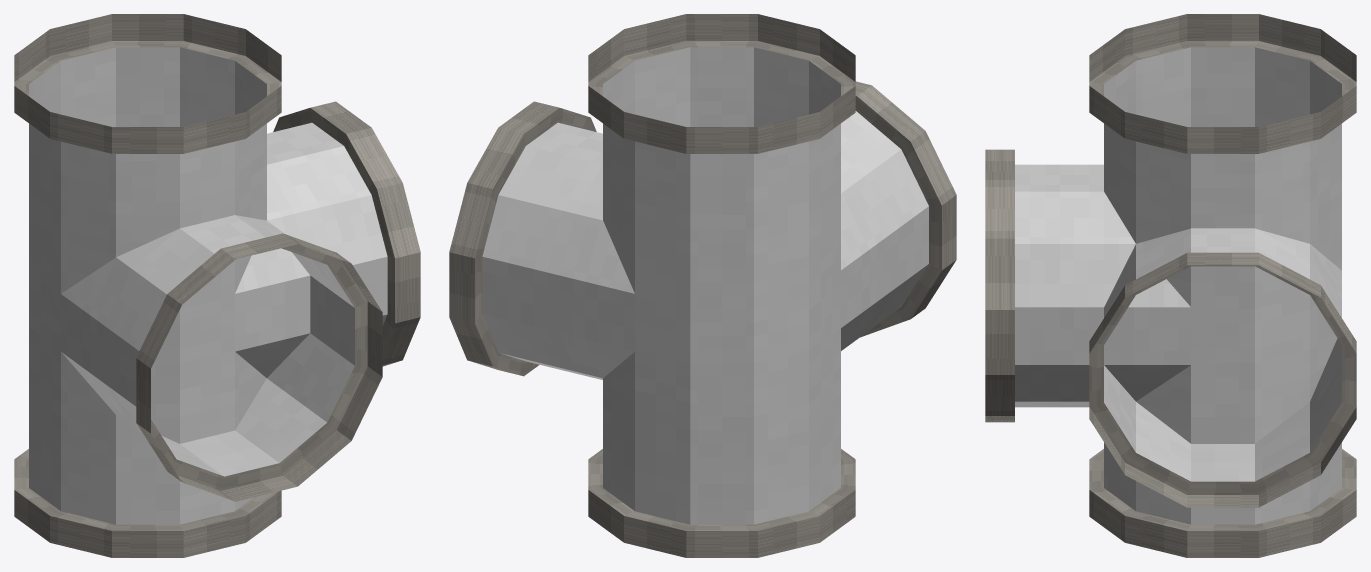
File: connection_43.obj
3 renders of one model, left to right at view 1: azimuth 30°, elevation 25°; view 2: azimuth 150°, elevation 25°; view 3: azimuth 270°, elevation 25°, orthographic.
Bounding box in the file's own units: 0.7812 × 1 × 0.7812.
